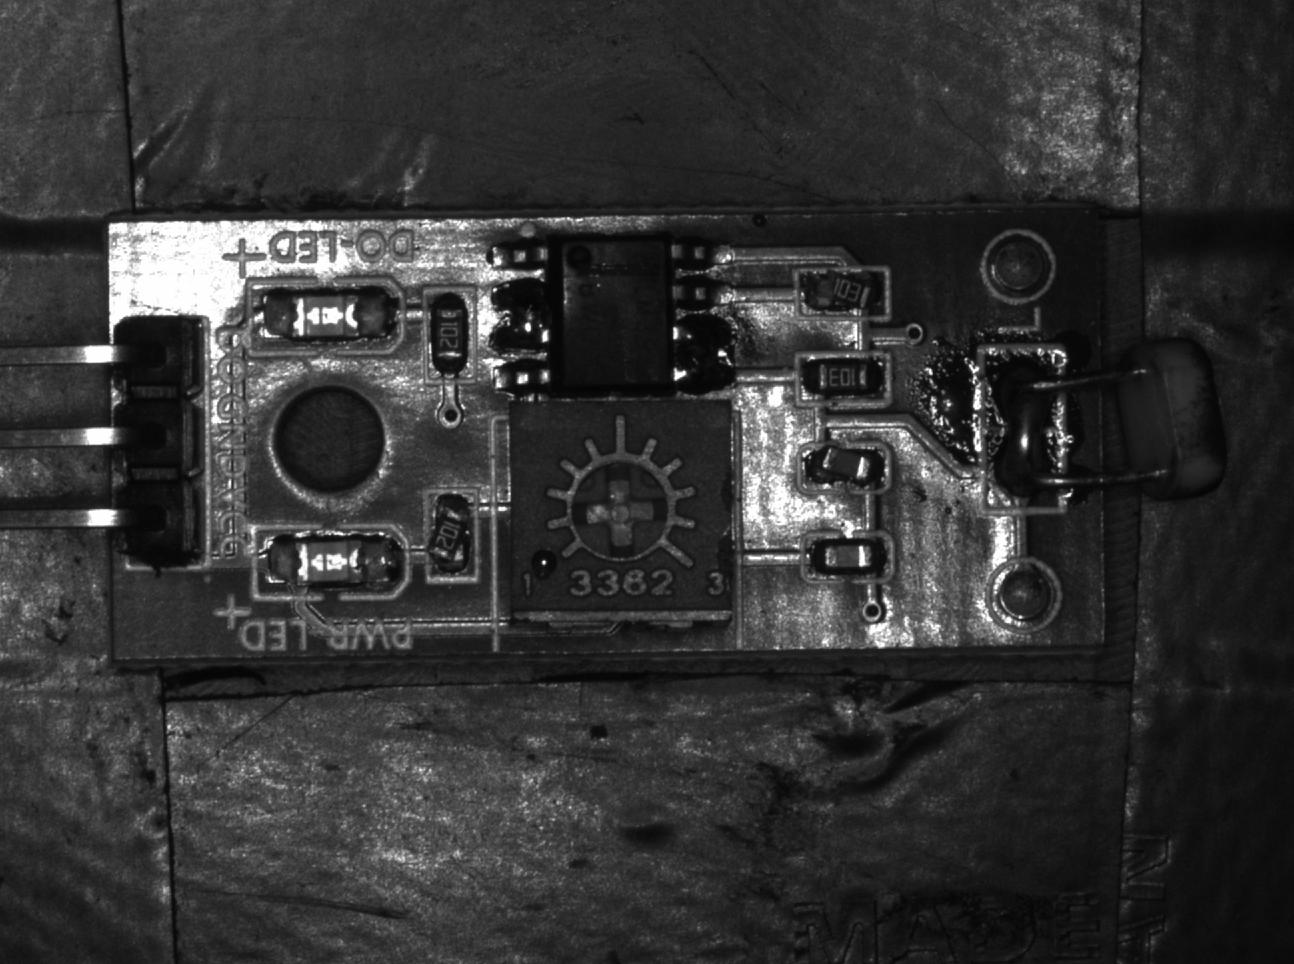bridge: (976, 348, 1066, 513), (669, 316, 740, 393), (488, 274, 551, 359)
lifted: (793, 266, 890, 325), (423, 487, 482, 581), (795, 445, 890, 495)
ok: (798, 349, 887, 405), (423, 290, 473, 381), (804, 531, 887, 581)
